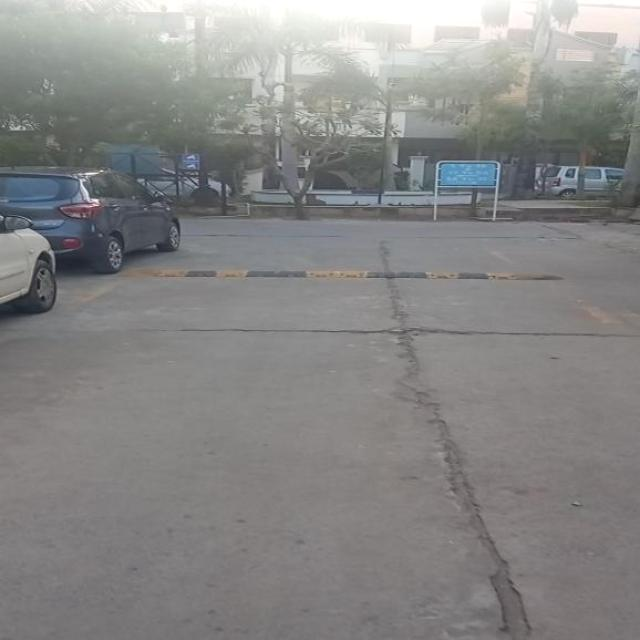Marked Bump: (175, 257, 565, 288)
